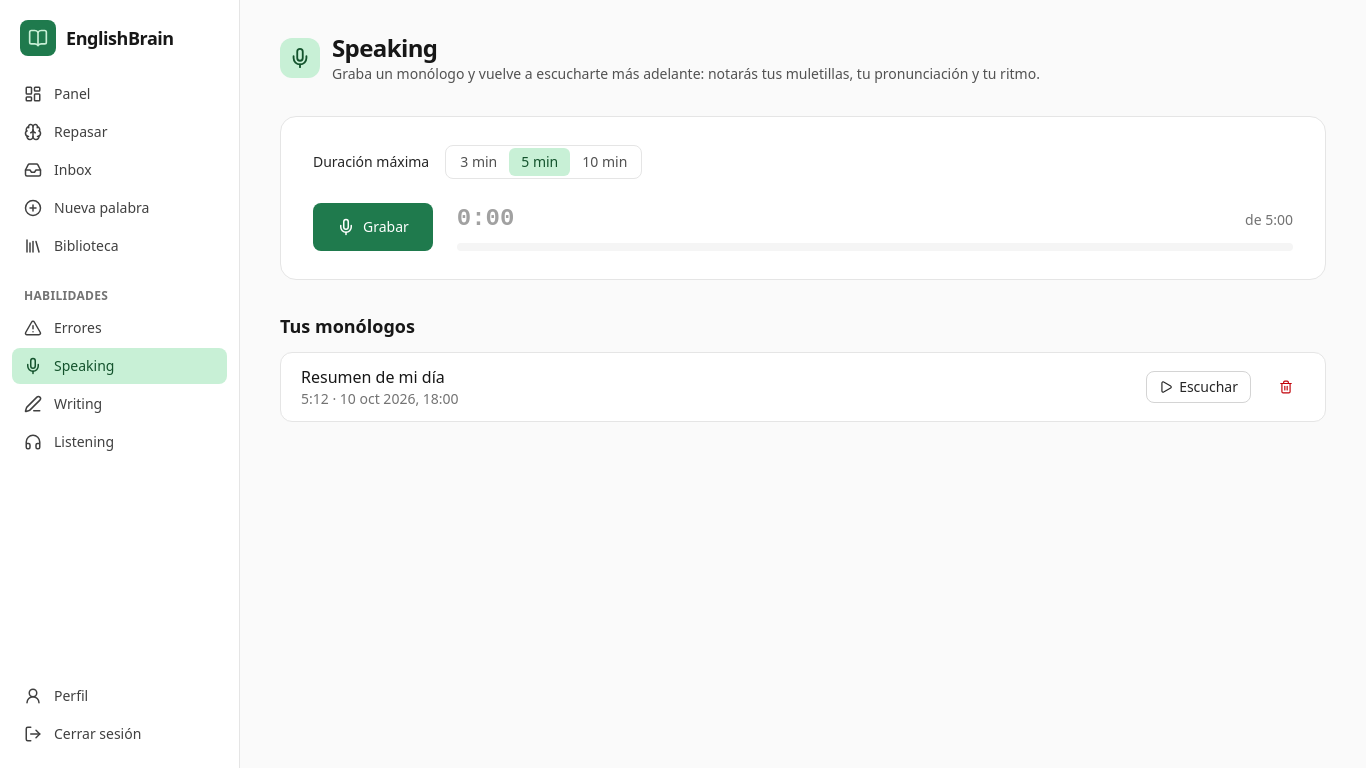
Test: 13.3 · Grabar, previsualizar y subir › sin título no sube y lo marca como obligatorio
Click the button "Grabar". click: [373, 227]
box: [313,203,433,251]
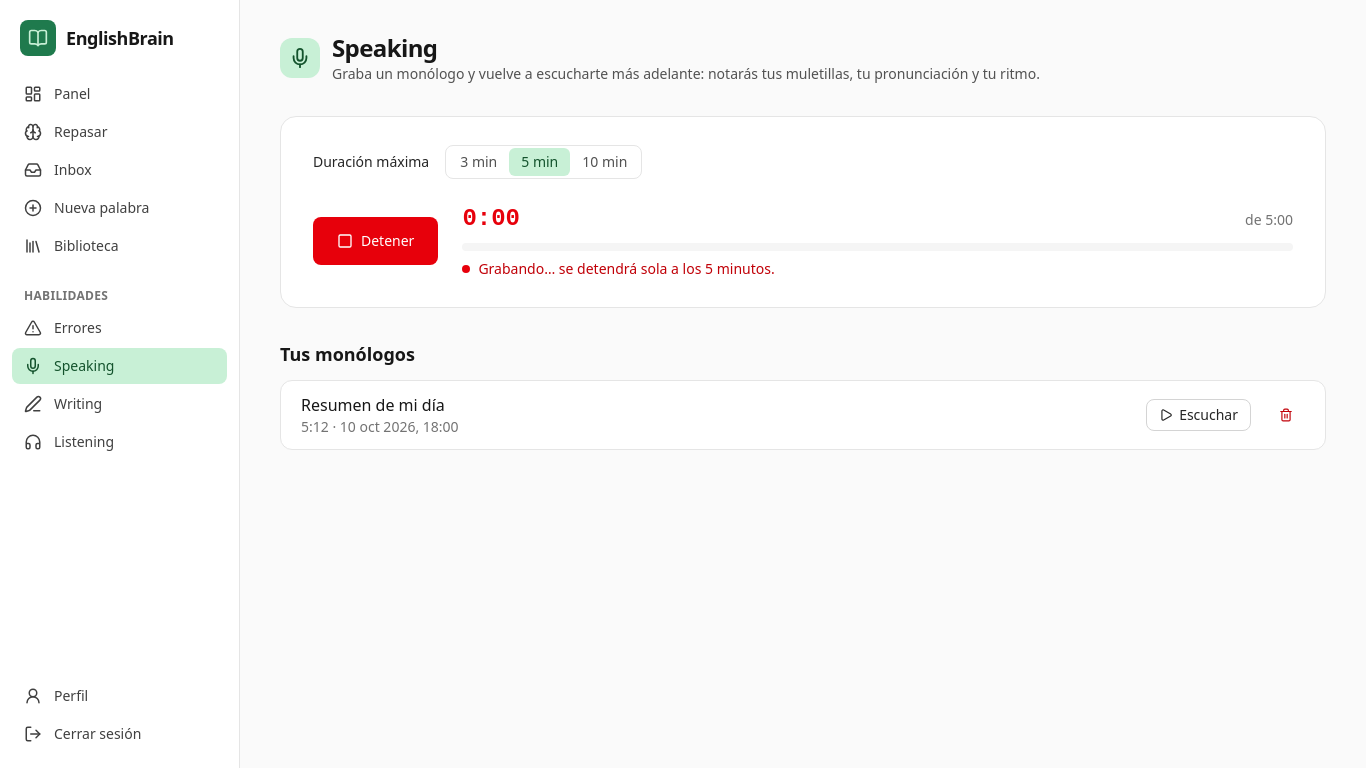
Click the button "Detener". click: [376, 241]
box: [313,217,438,265]
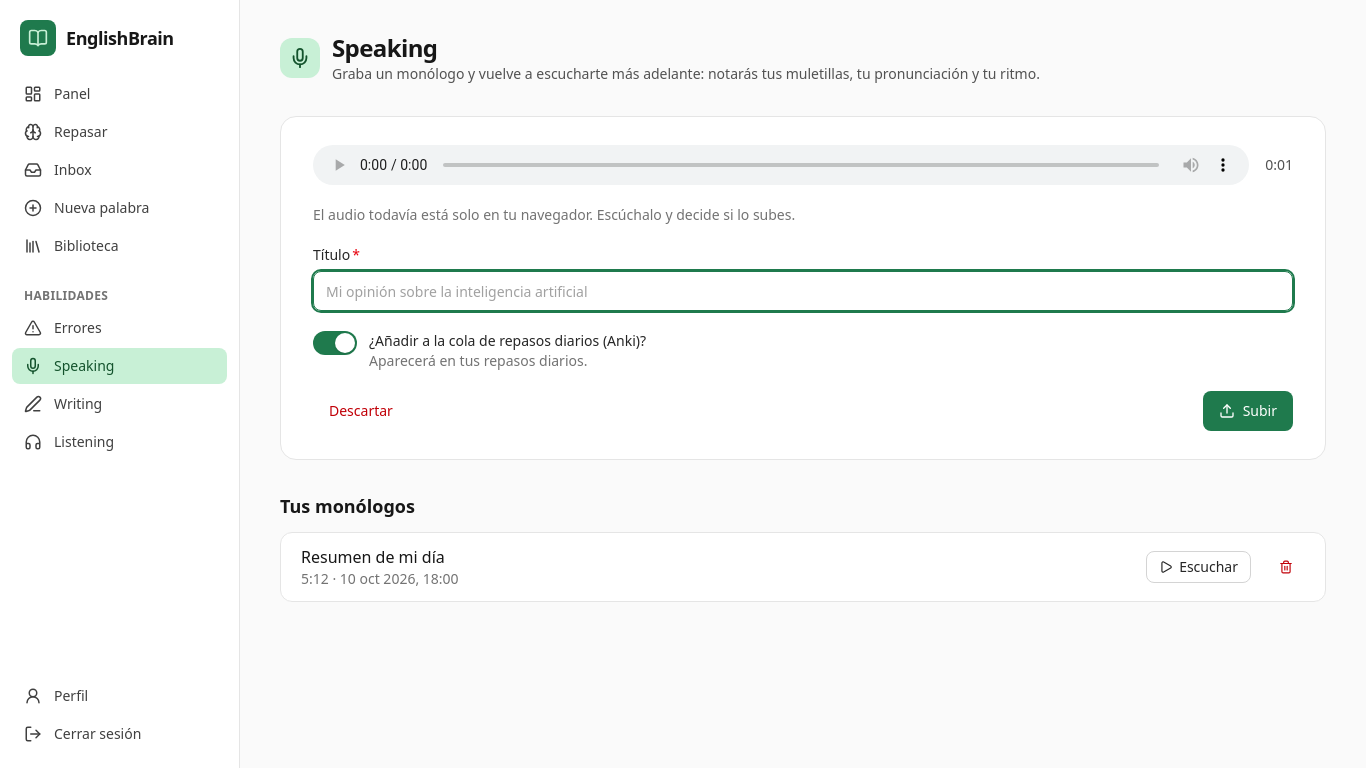
Expected: the element named "Escuchar tu grabación antes de subirla" is shown, [313,145,1249,185]
Click the button "Subir". click: [1248, 411]
box: [1203,391,1293,431]
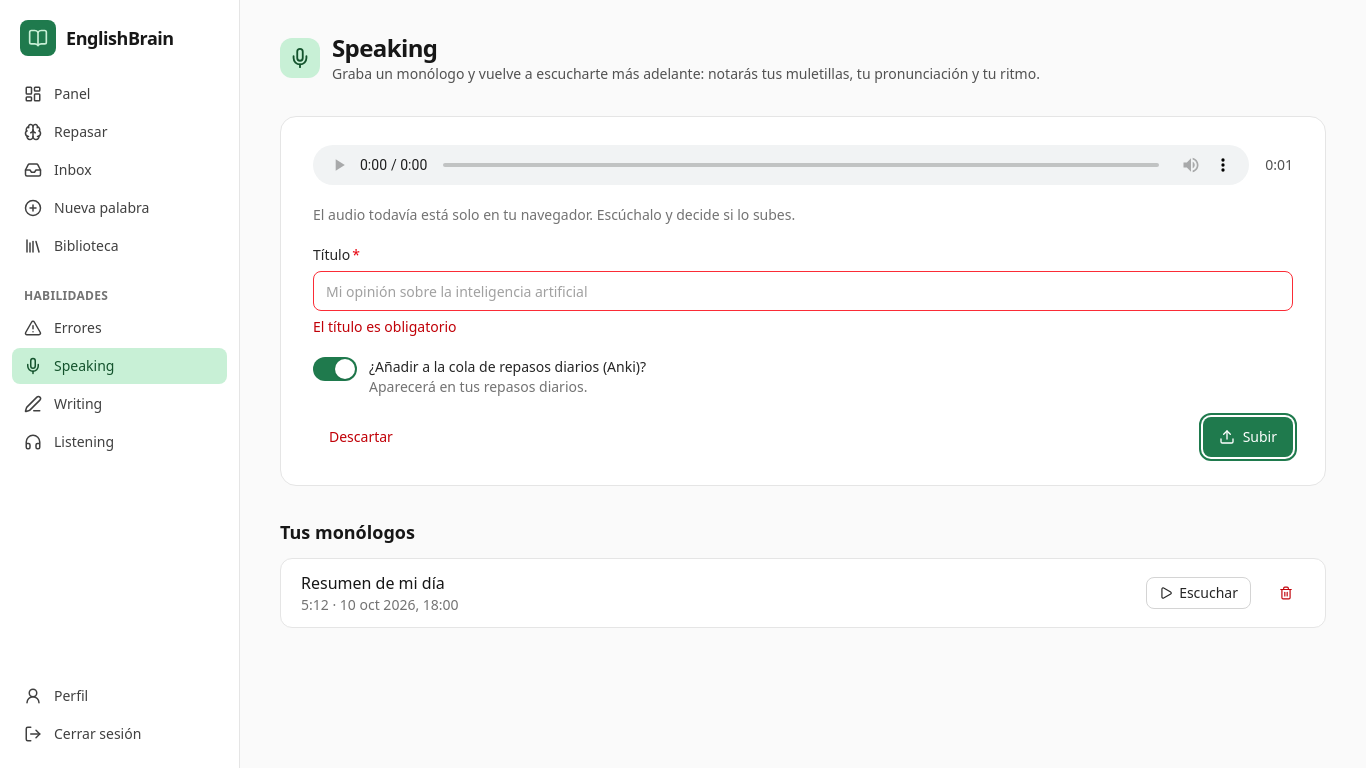
Expected: the text "El título es obligatorio" is shown, [313,317,456,336]
